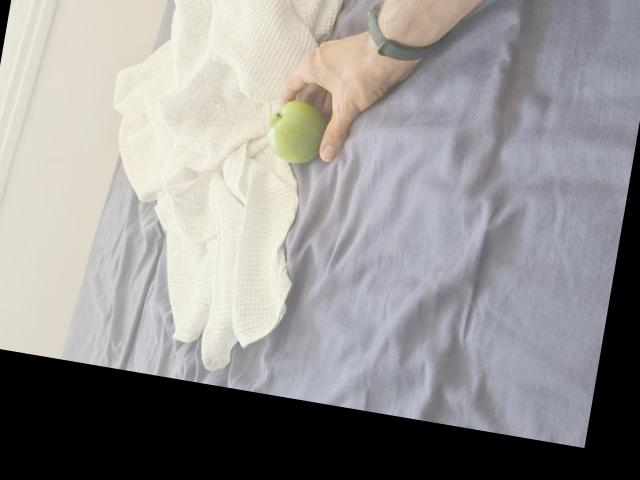apple: (261, 97, 337, 172)
